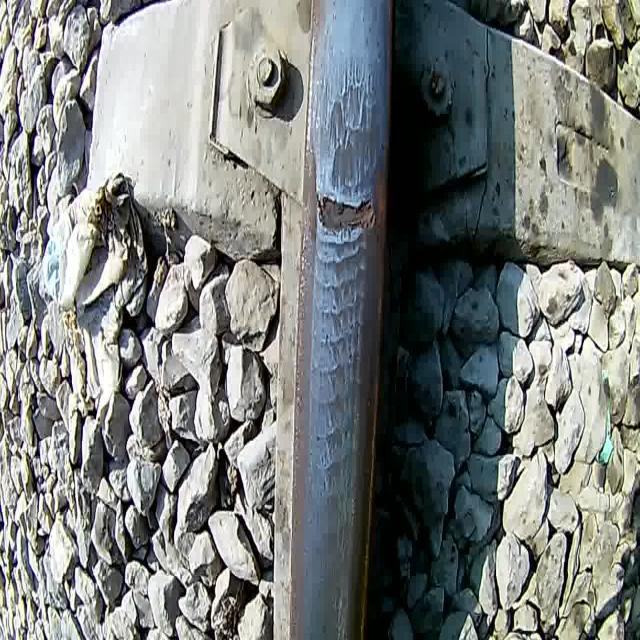Spallings: (310, 185, 382, 242)
Squats: (306, 226, 371, 574), (322, 49, 388, 197)
